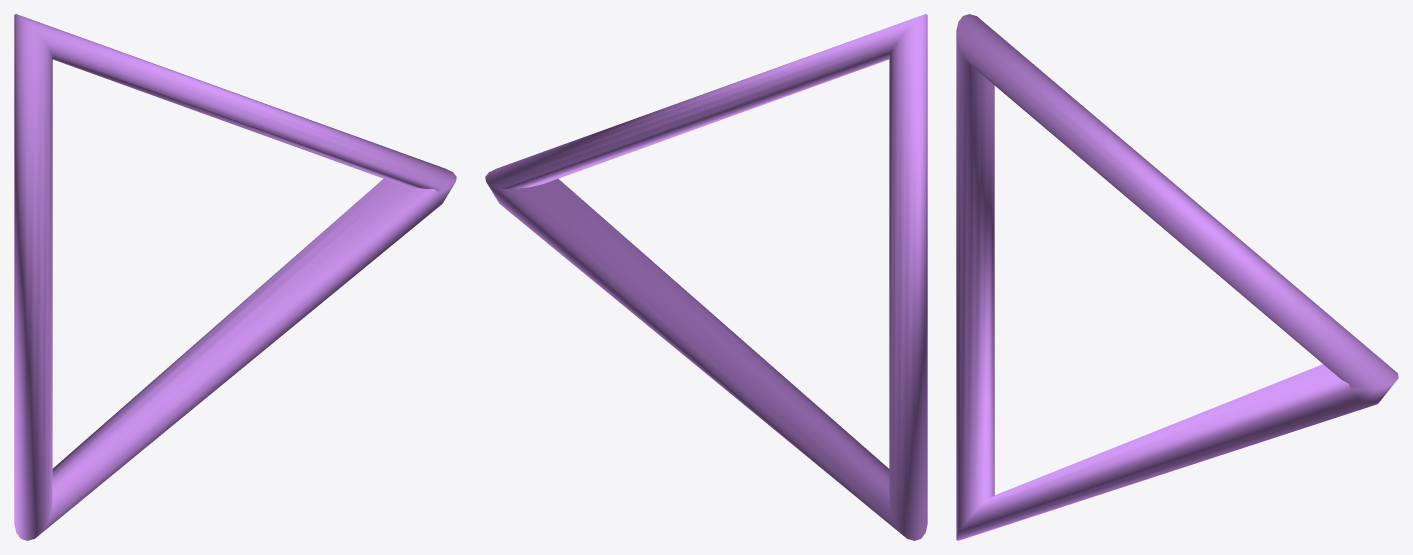
Rendered from triangle-4uBcwdDG.glb.
3 renders of one model, left to right at view 1: azimuth 30°, elevation 25°; view 2: azimuth 150°, elevation 25°; view 3: azimuth 330°, elevation 25°, orthographic.
Parts seen in each view (by area): view 1: R3D_triangle_Body_0; view 2: R3D_triangle_Body_0; view 3: R3D_triangle_Body_0.
Boxes of the visible parts, left/top/right/bottom form: R3D_triangle_Body_0: left=14, top=14, right=456, bottom=540; R3D_triangle_Body_0: left=485, top=14, right=927, bottom=540; R3D_triangle_Body_0: left=956, top=14, right=1398, bottom=540.
Bounding box in the file's own units: 2.06 × 2.37 × 0.24.
